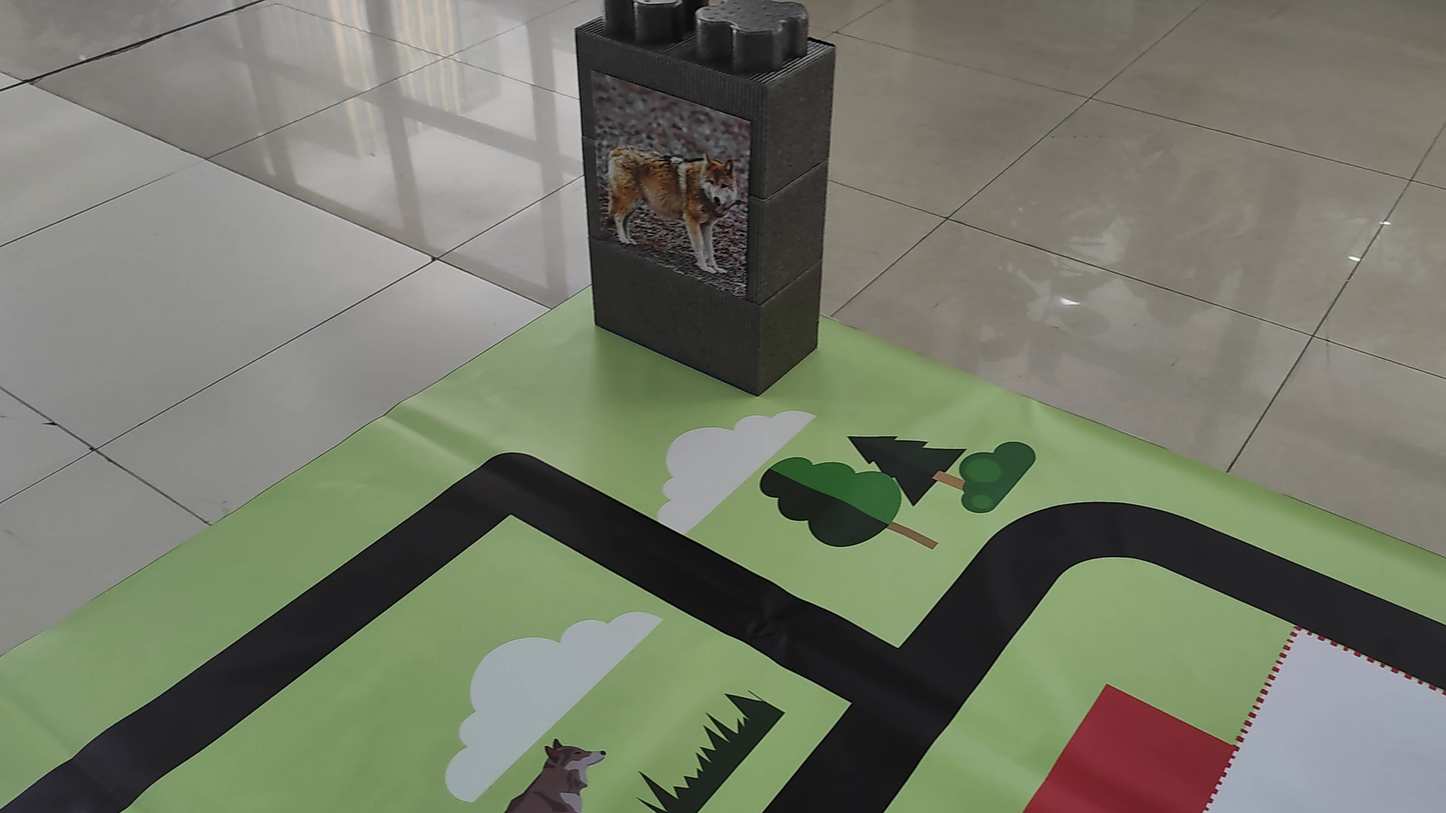wolf: (599, 104, 763, 278)
